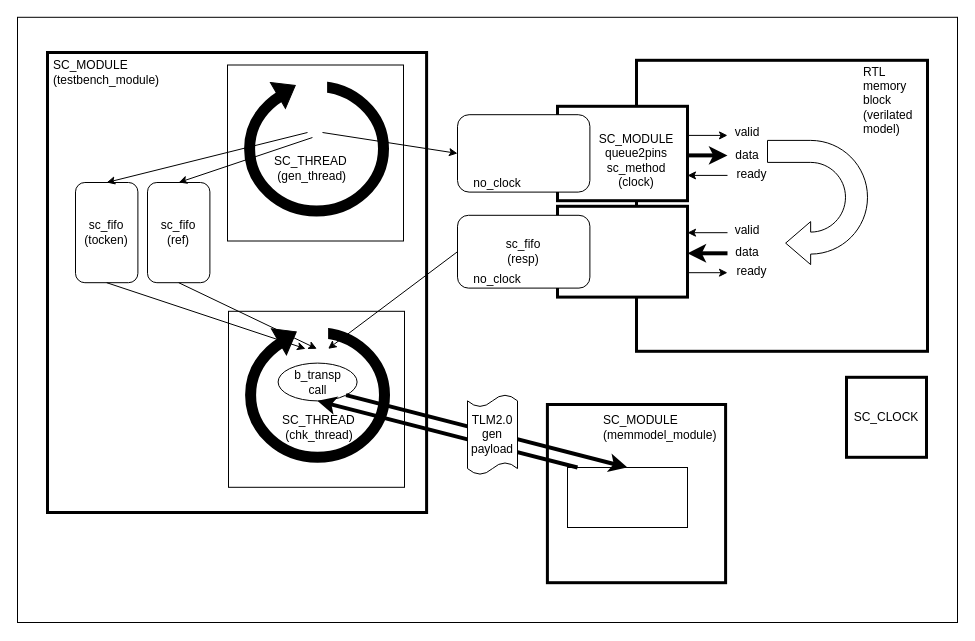
The diagram is 975 pixels wide and 641 high, and some of its shapes have lost their labels. The shapes that lost their labels are listed below. From the top down, each one's box as (x1, y1, x2, y2) in pixels, then its label:
(456, 114, 590, 192): sc_fifo (req)
(556, 204, 688, 298): SC_MODULE pins2queue sc_method (clock)
(566, 466, 688, 528): b_transport
